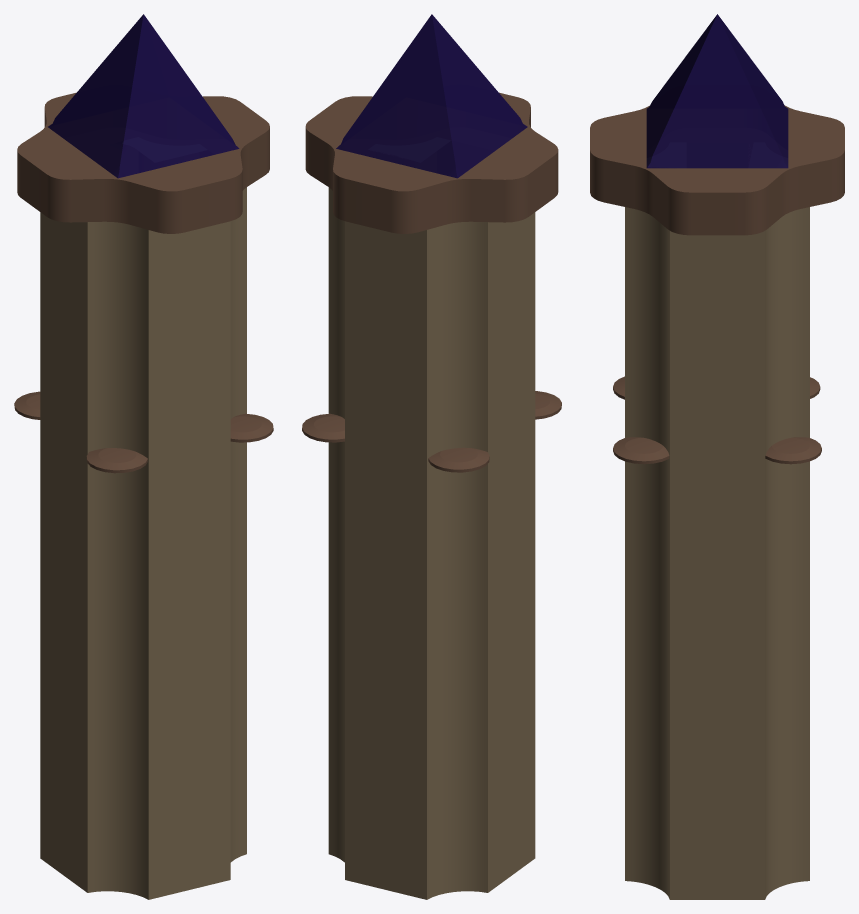
File: TallPyramid.fbx
3 renders of one model, left to right at view 1: azimuth 30°, elevation 25°; view 2: azimuth 150°, elevation 25°; view 3: azimuth 270°, elevation 25°, orthographic.
Visible parts, largest first — view 1: pCube3, pSphere9, pSphere8, pSphere10; view 2: pCube3, pSphere10, pSphere7, pSphere9; view 3: pCube3, pSphere8, pSphere7.
Part boxes in pixels (box(x1,y1,x2,y2)): pCube3: box(17, 14, 269, 899); pSphere9: box(86, 448, 147, 473); pSphere8: box(230, 413, 273, 442); pSphere10: box(14, 391, 40, 419); pCube3: box(305, 14, 558, 899); pSphere10: box(428, 447, 489, 472); pSphere7: box(302, 413, 344, 442); pSphere9: box(535, 391, 561, 419); pCube3: box(590, 14, 844, 899); pSphere8: box(613, 437, 669, 464); pSphere7: box(765, 437, 821, 464).
Bounding box in the file's own units: 12.41 × 45.51 × 12.41.
